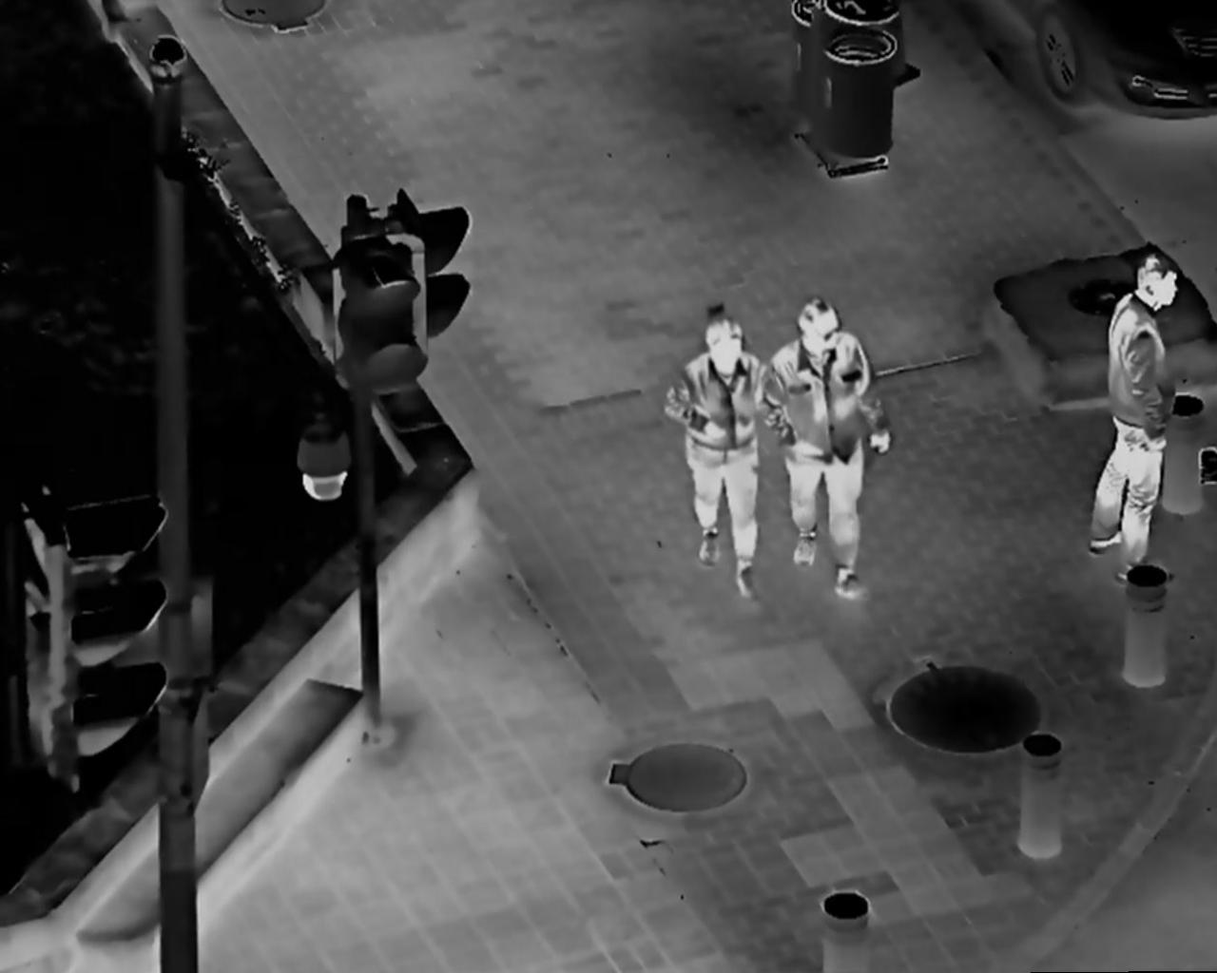person: (759, 288, 890, 609), (659, 299, 795, 602), (1090, 244, 1179, 596)
